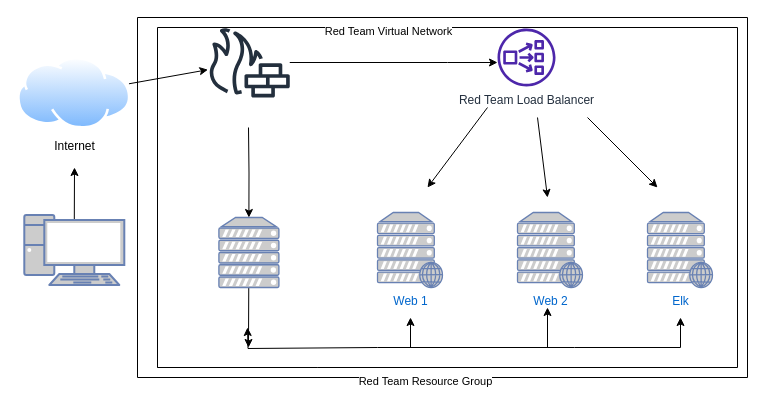
The diagram is 766 pixels wide and 405 high, and some of its shapes have lost their labels. The box of each missing label's shape, as (x1, y1, x2, y2) in pixels:
Computer: (23, 214, 125, 286)
Jump Box: (217, 216, 279, 288)
Red Team NGS: (207, 27, 290, 97)
